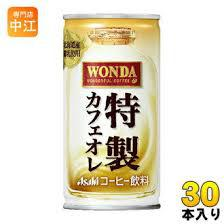beer: (62, 13, 163, 210)
